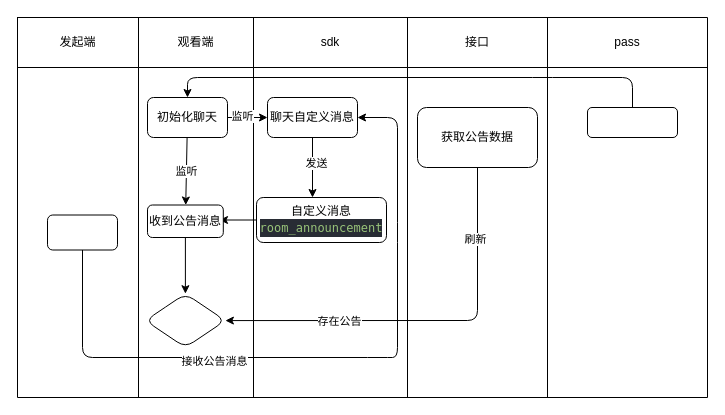
Some shapes in this 725 by 415 pixel diagram are drawn without their labels. Each missing label, with the centre of its shape:
"chat.sdk" goes at (632,122).
"发送公告" goes at (82,232).
"展示公告" goes at (184,320).
